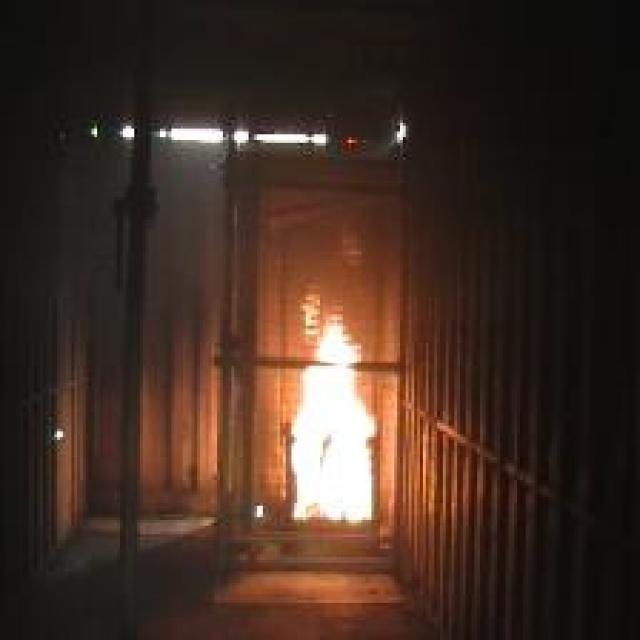Fire: (290, 297, 376, 523)
